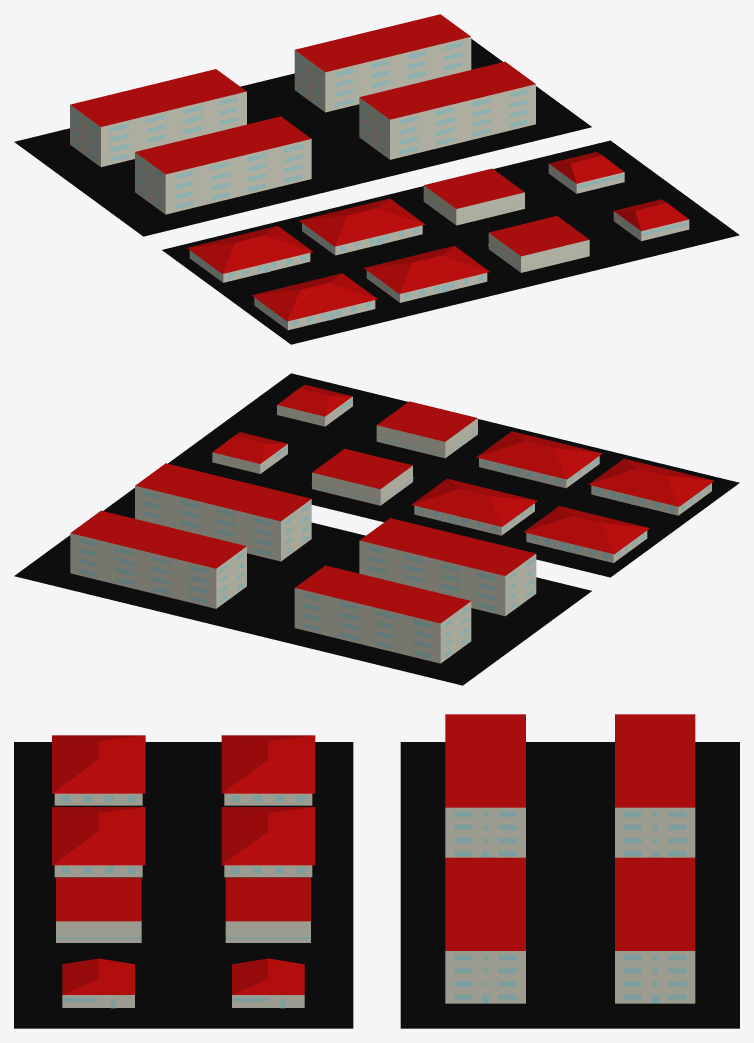
The picture shows the model from 3 angles, top to bottom: view 1: azimuth 30°, elevation 25°; view 2: azimuth 150°, elevation 25°; view 3: azimuth 270°, elevation 25°; orthographic projection. The views are drawn at different scales.
Parts seen in each view (by area): view 1: Ground, Roofs, Walls, Windows; view 2: Ground, Roofs, Walls, Windows; view 3: Ground, Roofs, Walls, Windows.
Boxes of the visible parts, bbox=[...] form: Ground: bbox=[14, 39, 739, 344]; Roofs: bbox=[70, 14, 688, 321]; Walls: bbox=[70, 37, 689, 330]; Windows: bbox=[73, 42, 687, 326]; Ground: bbox=[14, 373, 739, 685]; Roofs: bbox=[70, 384, 714, 623]; Walls: bbox=[70, 396, 711, 663]; Windows: bbox=[79, 399, 709, 658]; Ground: bbox=[14, 742, 739, 1028]; Roofs: bbox=[52, 714, 695, 994]; Walls: bbox=[54, 793, 695, 1007]; Windows: bbox=[56, 795, 686, 1008].
Size of the model in its own units: 142 by 12.19 by 152.
